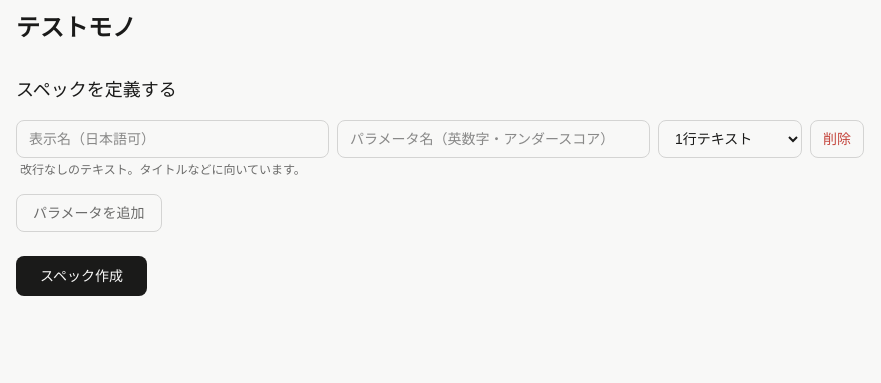
Scenario: スペック未定義時（parametersが空） › パラメータ追加ボタンを押すとフォーム行が増える
What coordinates should you click on to do the following:
click the button "パラメータを追加"
I would click on:
 (89, 213)
Its box is [16,194,162,232].
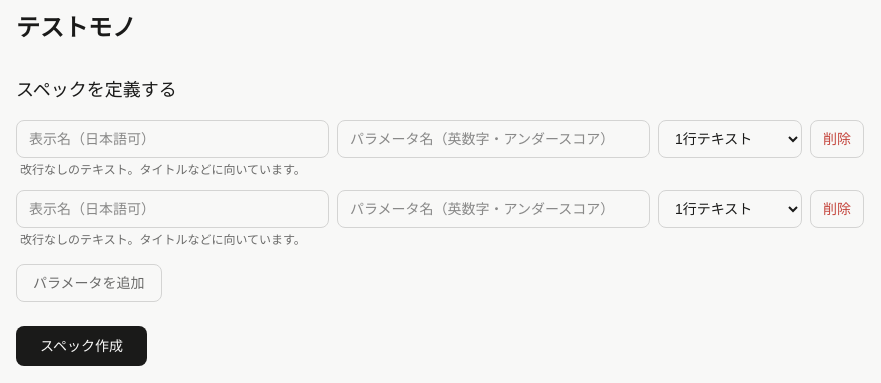
Now the number of dropdowns is 2, box [658,120,802,158]; [658,190,802,228]
